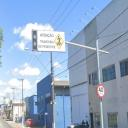speed_limit_40: (97, 84, 105, 98)
